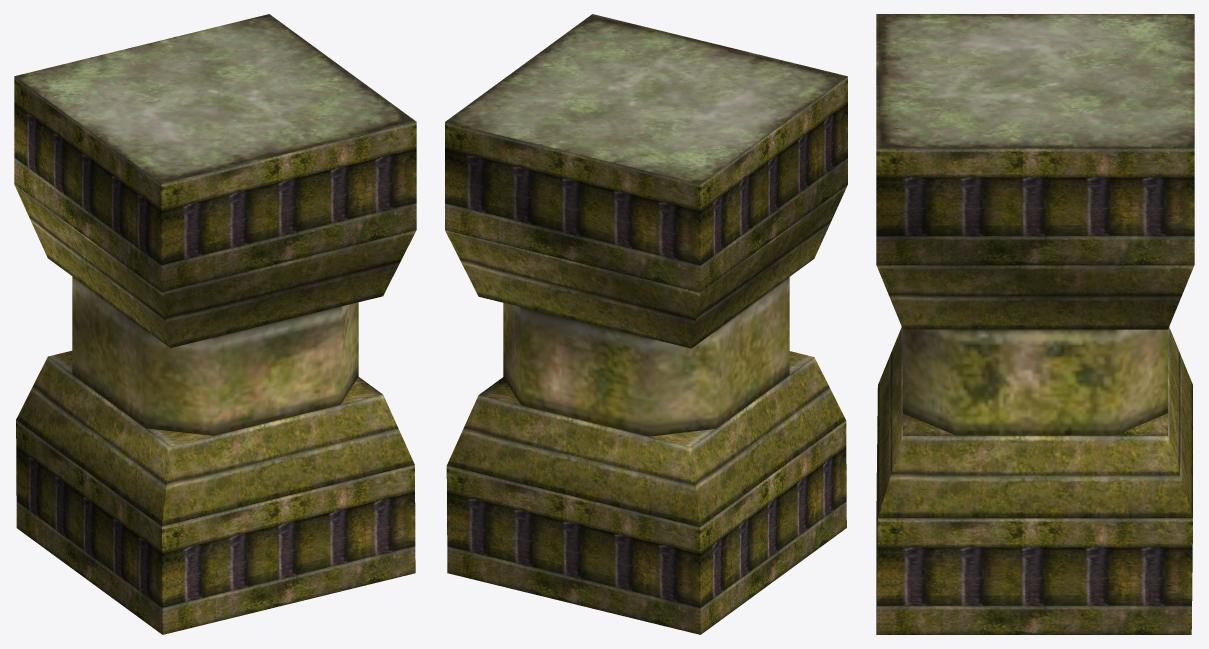
The model's file is OVERHILL_A_01_OBJECT252.fbx.
3 renders of one model, left to right at view 1: azimuth 30°, elevation 25°; view 2: azimuth 150°, elevation 25°; view 3: azimuth 270°, elevation 25°, orthographic. The views are drawn at different scales.
Visible parts, largest first — view 1: OVERHILL_A_01_OBJECT252; view 2: OVERHILL_A_01_OBJECT252; view 3: OVERHILL_A_01_OBJECT252.
Part boxes in pixels (<box>): OVERHILL_A_01_OBJECT252: <box>14,14,416,634</box>; OVERHILL_A_01_OBJECT252: <box>445,14,847,634</box>; OVERHILL_A_01_OBJECT252: <box>876,14,1194,634</box>.
Size of the model in its own units: 18045 by 30501 by 18045.
Materials: 5 (5 with a texture image).
